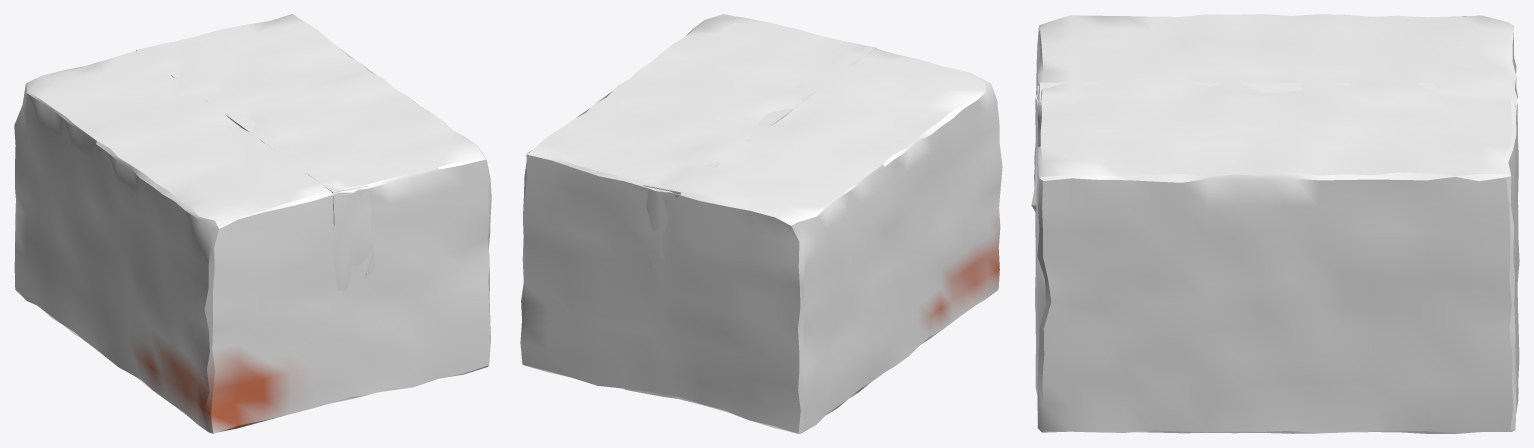
Rendered from closedbox.fbx.
3 renders of one model, left to right at view 1: azimuth 30°, elevation 25°; view 2: azimuth 150°, elevation 25°; view 3: azimuth 270°, elevation 25°, orthographic. The views are drawn at different scales.
Parts seen in each view (by area): view 1: closed_box; view 2: closed_box; view 3: closed_box.
Part boxes in pixels (x1,y1,x2,y2): closed_box: (14,14,491,433); closed_box: (520,14,1002,433); closed_box: (1031,14,1519,433).
Size of the model in its own units: 2.91 by 2.09 by 3.52.
